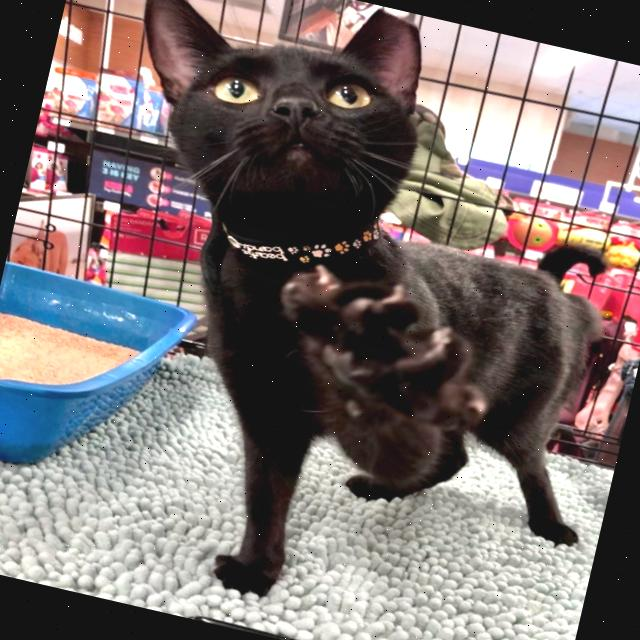american_shorthair_cat: (87, 0, 454, 278)
